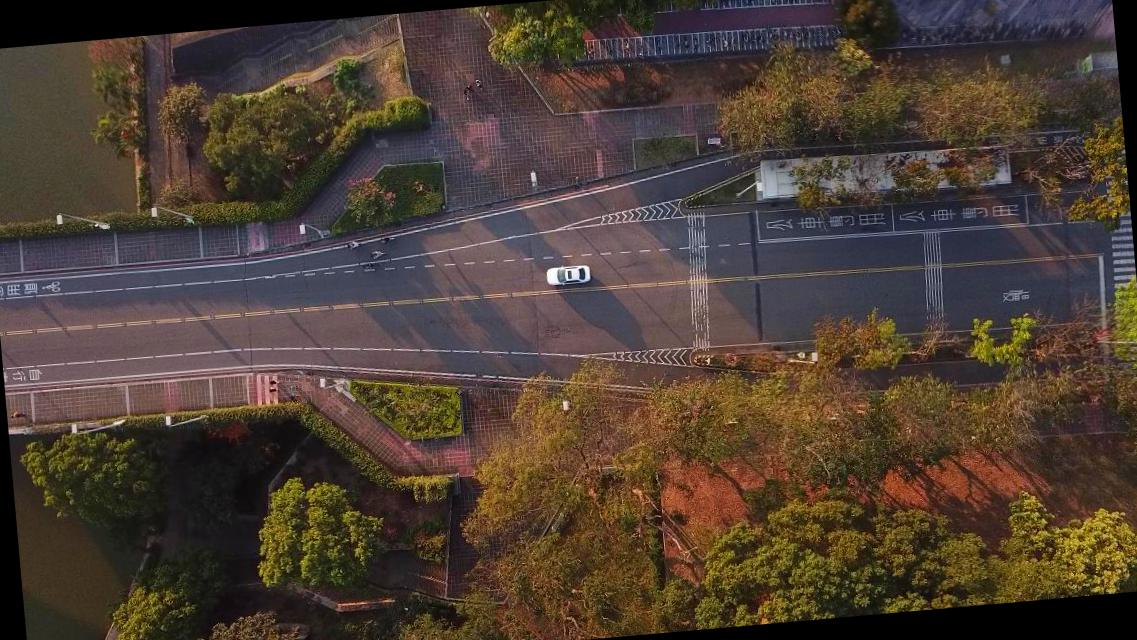vehicle: (545, 263, 590, 288)
